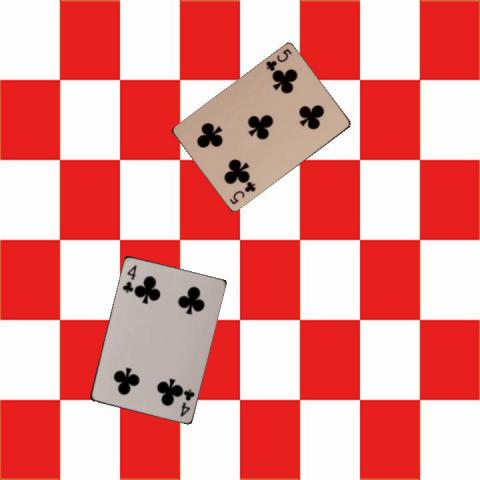4c: (119, 262, 138, 294), (177, 386, 196, 418)
5c: (226, 179, 257, 206), (263, 46, 293, 73)
